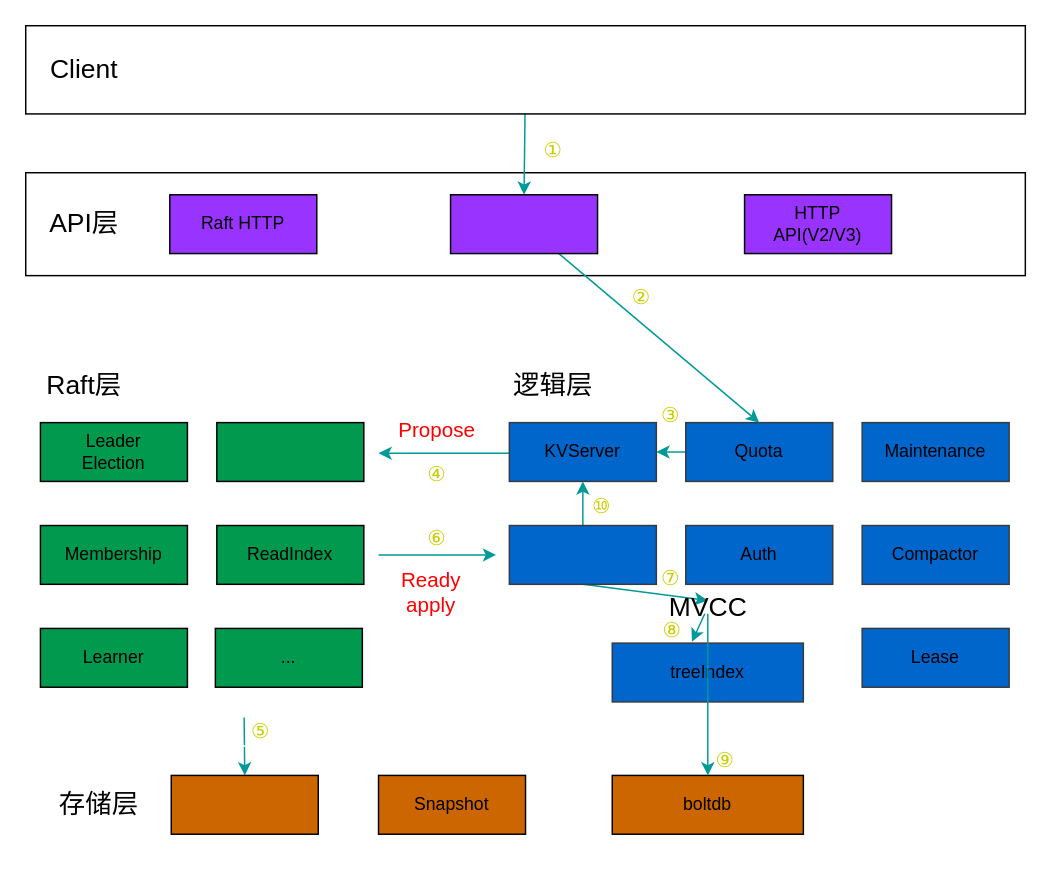
Some shapes in this 1051 by 889 pixel diagram are drawn without their labels. The box of each missing label's shape, as (x1, y1, x2, y2) in pixels:
Apply: (508, 524, 656, 584)
etcdctl/client(v3): (24, 24, 1025, 114)
grpc API: (449, 193, 598, 254)
Log Replication: (215, 421, 364, 481)
WAL: (170, 774, 318, 834)
